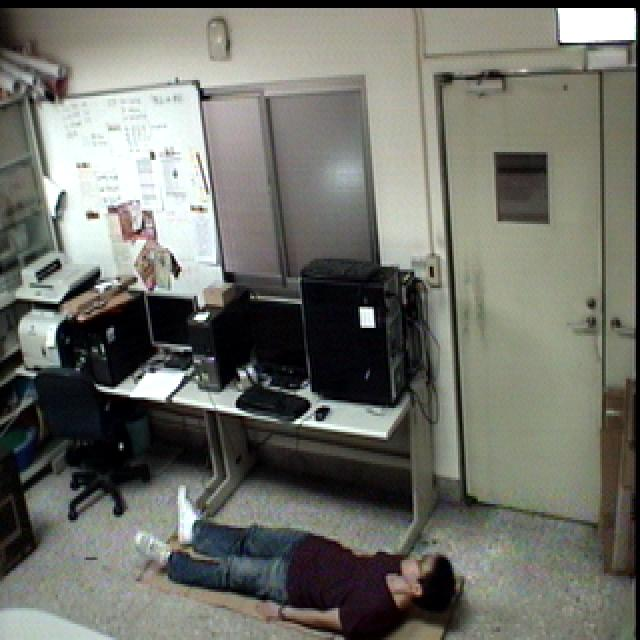lie: (129, 473, 468, 640)
